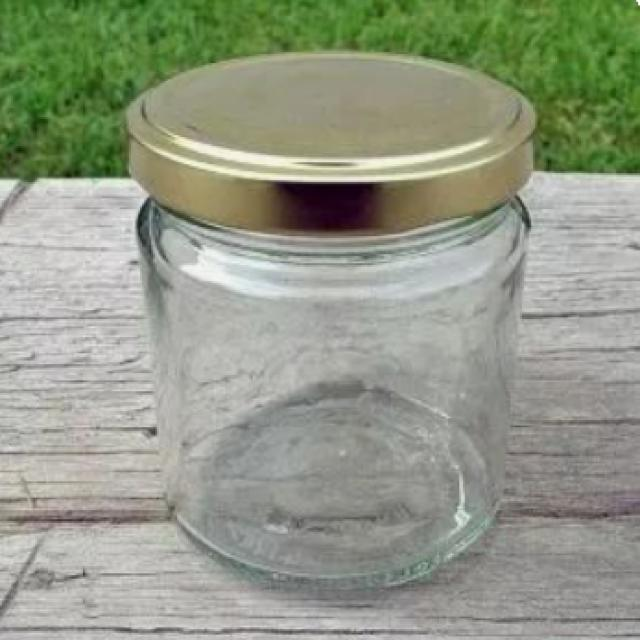ToplesKaca: (120, 47, 538, 591)
